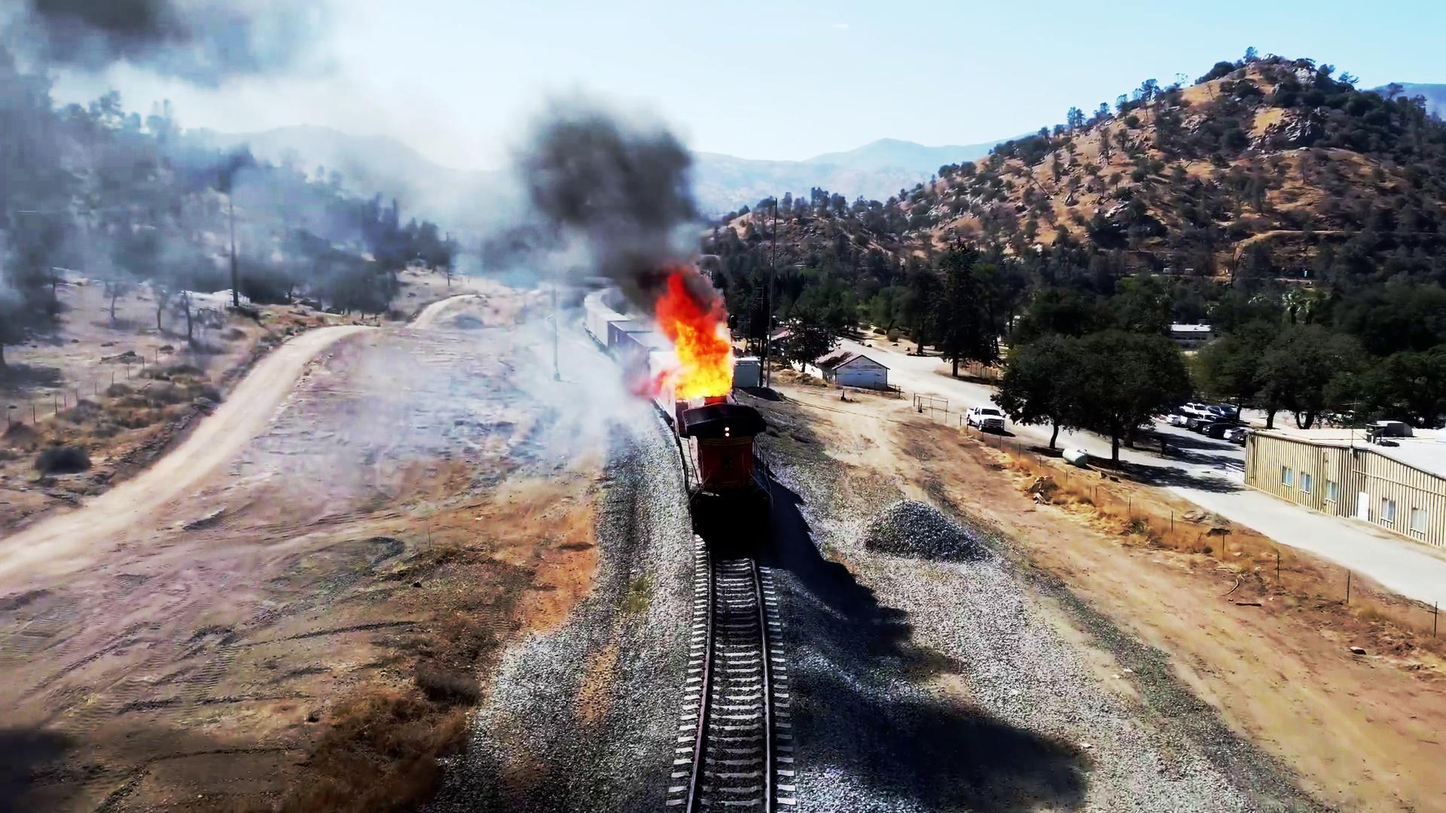fire: (659, 279, 742, 408)
smoke: (0, 0, 311, 104), (503, 83, 706, 234)
